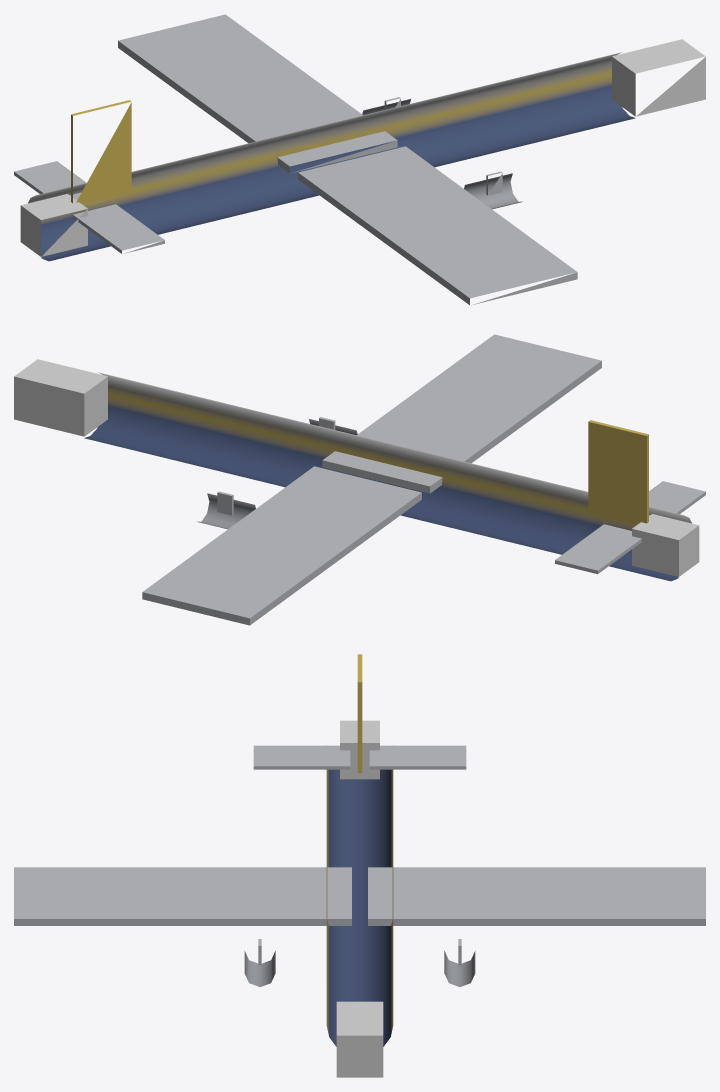
File: wide.glb
The picture shows the model from 3 angles, top to bottom: view 1: azimuth 30°, elevation 25°; view 2: azimuth 150°, elevation 25°; view 3: azimuth 270°, elevation 25°; orthographic projection.
Bounding box in the file's own units: 67.8 × 14.25 × 62.35.
